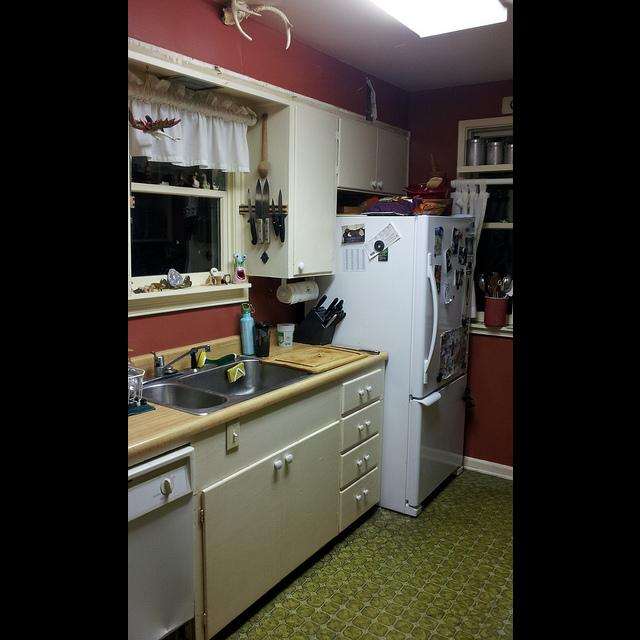Refrigerator: (331, 215, 476, 518)
